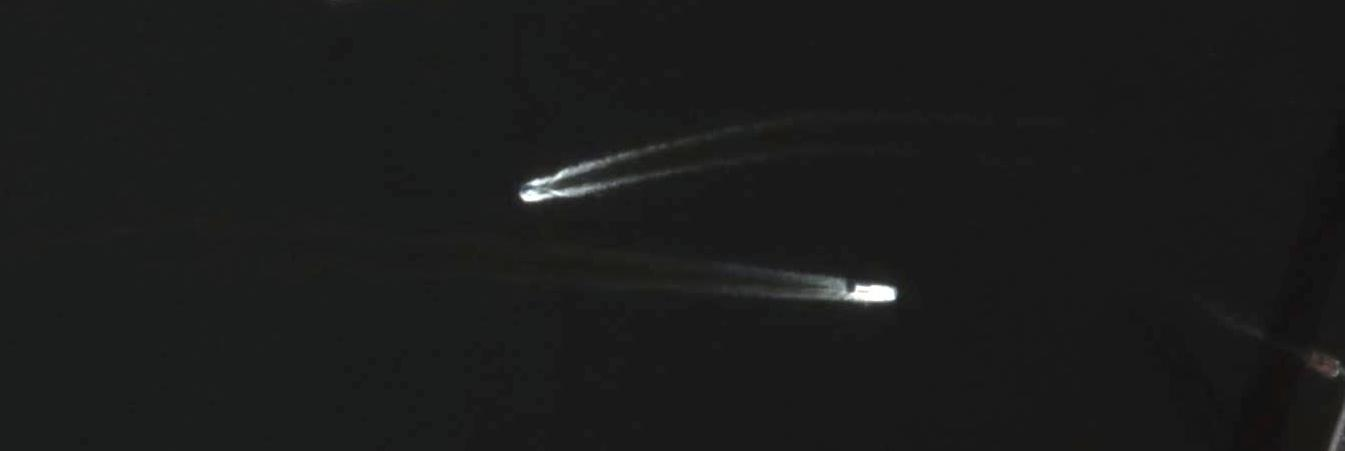person: (850, 282, 898, 302), (1308, 353, 1344, 377), (519, 184, 547, 194)
